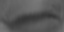LeftEyeFatigue: (3, 4, 64, 31)
